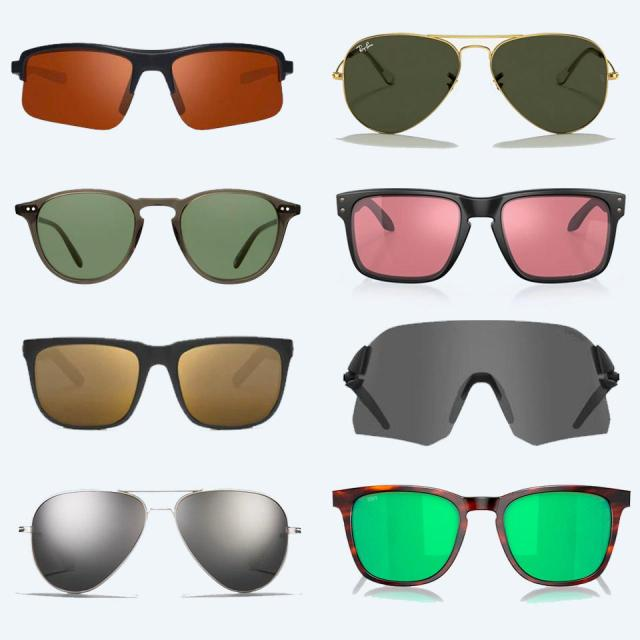Sunglasses: (13, 483, 313, 625), (328, 175, 630, 298), (328, 27, 624, 152), (326, 486, 638, 604), (10, 175, 306, 295), (331, 325, 624, 445), (13, 327, 303, 437), (8, 38, 298, 144)
